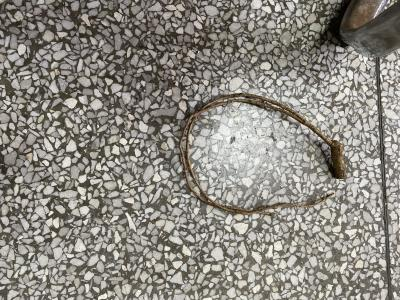Root: (178, 93, 346, 216)
